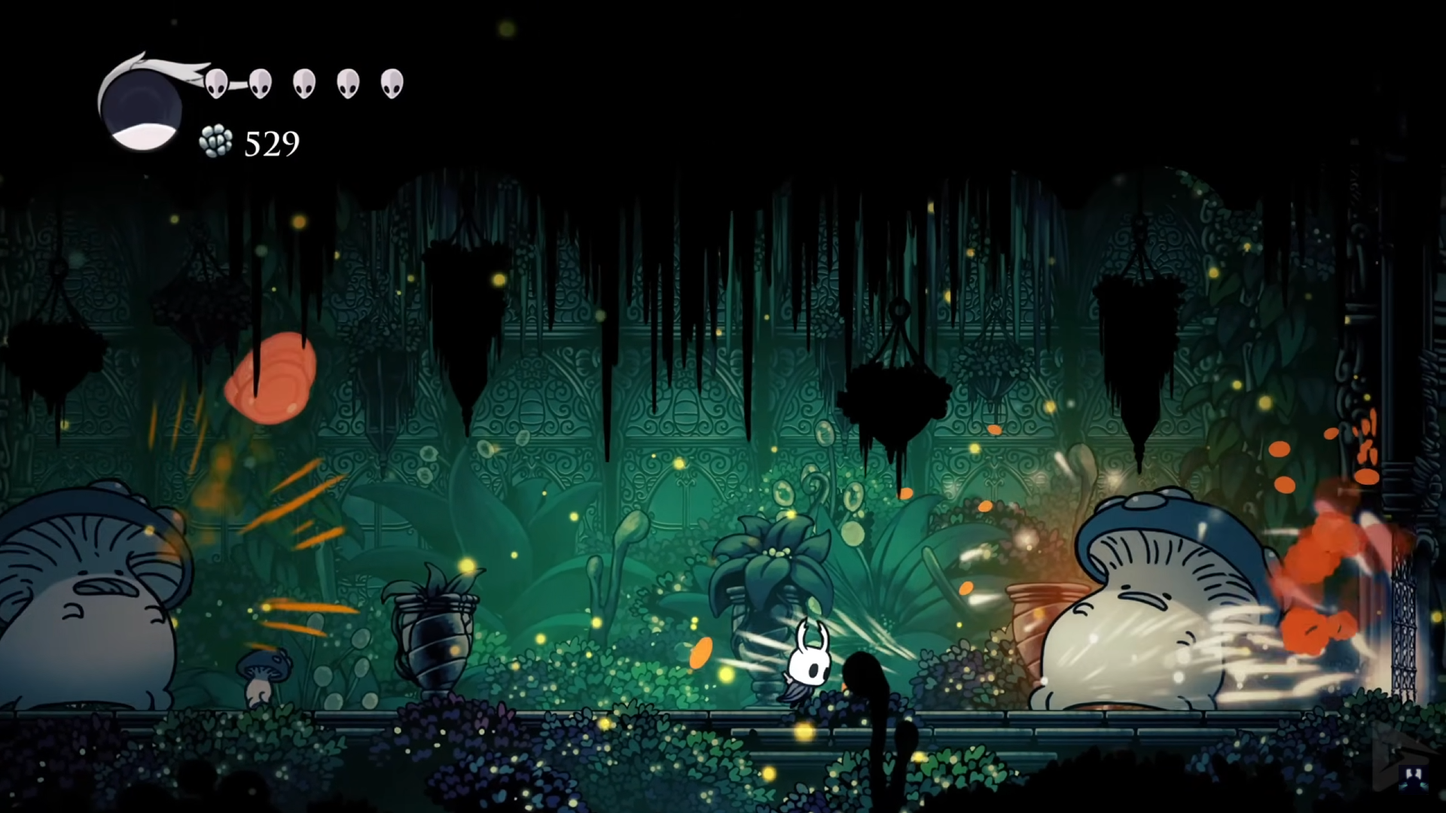HK: (776, 614, 839, 717)
